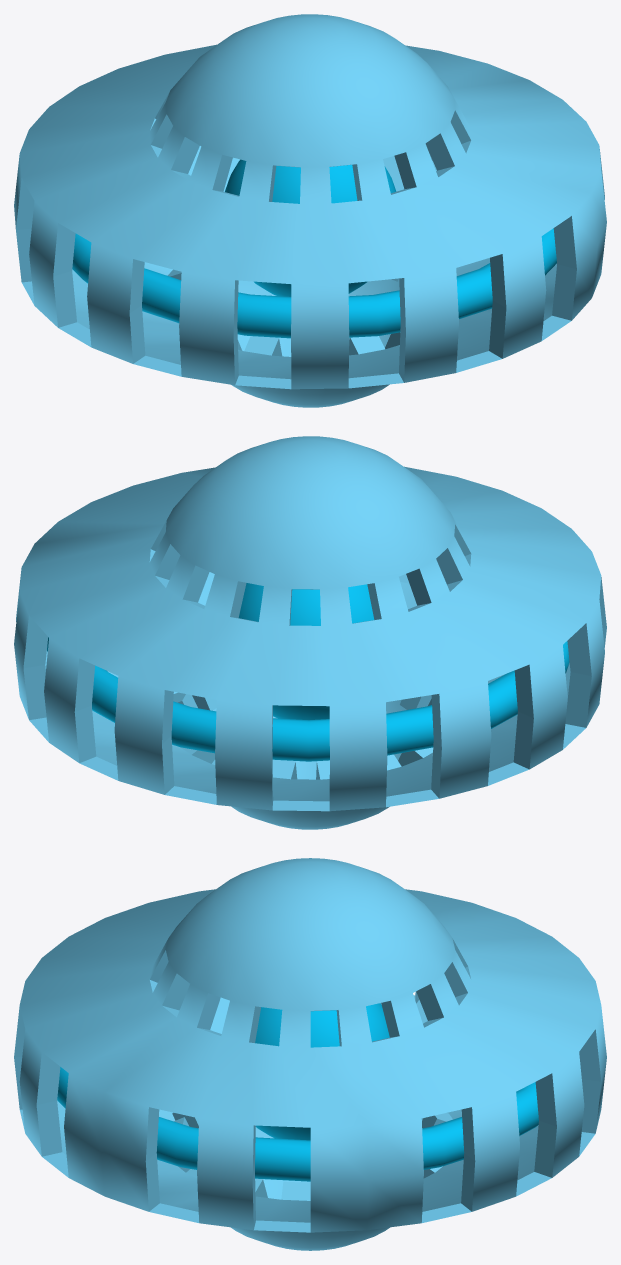
File: NestorShip.FBX
3 renders of one model, top to bottom at view 1: azimuth 30°, elevation 25°; view 2: azimuth 150°, elevation 25°; view 3: azimuth 270°, elevation 25°, orthographic.
Visible parts, largest first — view 1: Sphere001, Torus001, Sphere002; view 2: Sphere001, Torus001, Sphere002; view 3: Sphere001, Torus001, Sphere002.
Boxes of the visible parts, x1,y1,x2,y2 form: Sphere001: (14,14,606,407); Torus001: (72,228,556,338); Sphere002: (225,159,396,296); Sphere001: (14,436,606,829); Torus001: (47,637,569,761); Sphere002: (238,583,374,719); Sphere001: (14,858,606,1250); Torus001: (57,1067,538,1181); Sphere002: (255,1003,389,1140).
Bounding box in the file's own units: 50.83 × 34.41 × 50.83.
Materials: 2 (2 with a texture image).
